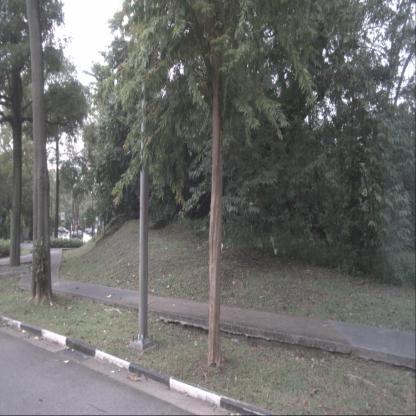vehicle-car: (70, 230, 84, 240), (88, 228, 100, 237), (58, 226, 69, 235), (84, 228, 93, 235)
